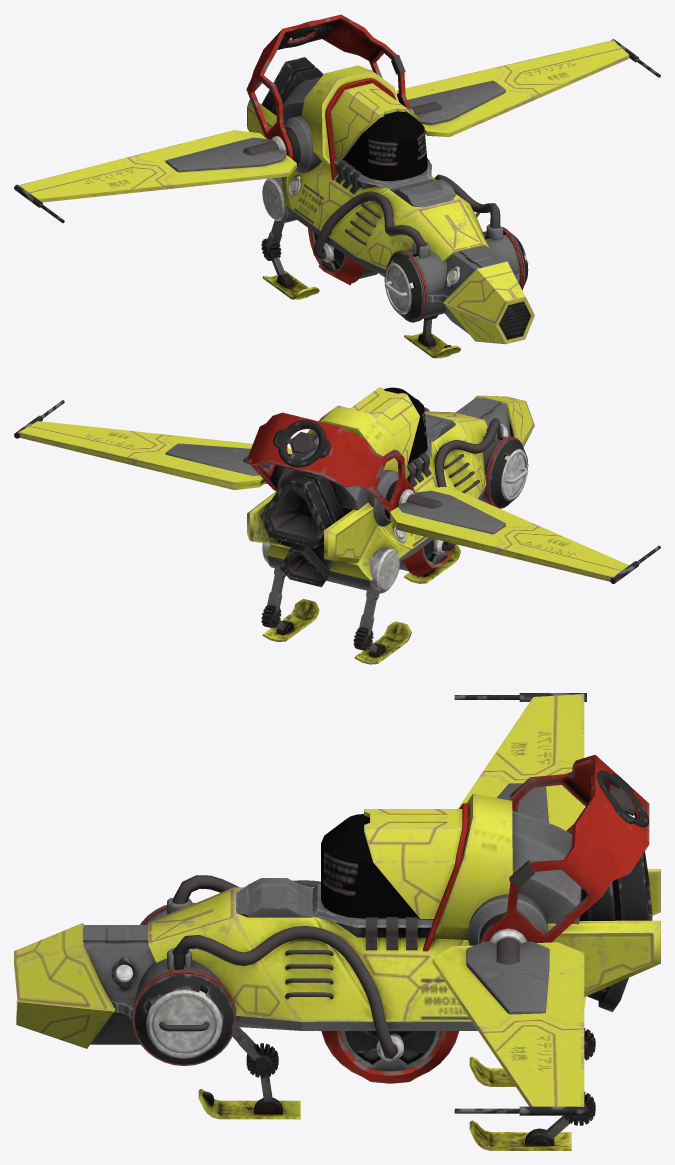
Rendered from nms-efforya-detail.glb.
3 views of the same model, one above another, from view 1: azimuth 30°, elevation 25°; view 2: azimuth 150°, elevation 25°; view 3: azimuth 270°, elevation 25° (orthographic). The views are drawn at different scales.
Parts seen in each view (by area): view 1: nms-efforya; view 2: nms-efforya; view 3: nms-efforya.
Part boxes in pixels (bbox=[...]): nms-efforya: bbox=[14, 14, 660, 358]; nms-efforya: bbox=[14, 387, 660, 664]; nms-efforya: bbox=[14, 693, 660, 1150].
Bounding box in the file's own units: 40 × 15.2 × 26.21.
1 material, 1 textured.
